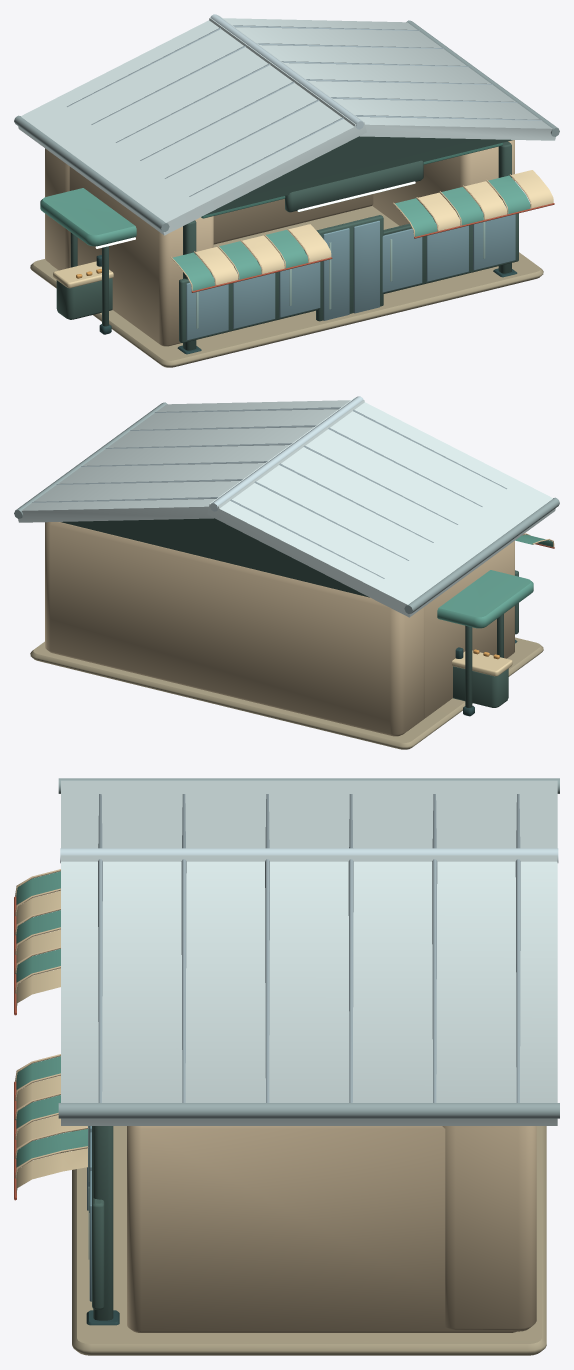
File: wilderness_rent.glb
3 renders of one model, top to bottom at view 1: azimuth 30°, elevation 25°; view 2: azimuth 150°, elevation 25°; view 3: azimuth 270°, elevation 25°, orthographic. The views are drawn at different scales.
Parts seen in each view (by area): view 1: WildernessRent; view 2: WildernessRent; view 3: WildernessRent.
Part boxes in pixels (x1,y1,x2,y2): WildernessRent: (14, 14, 559, 367); WildernessRent: (14, 396, 559, 749); WildernessRent: (14, 778, 559, 1355).
Size of the model in its own units: 10.37 by 4.82 by 6.81.
